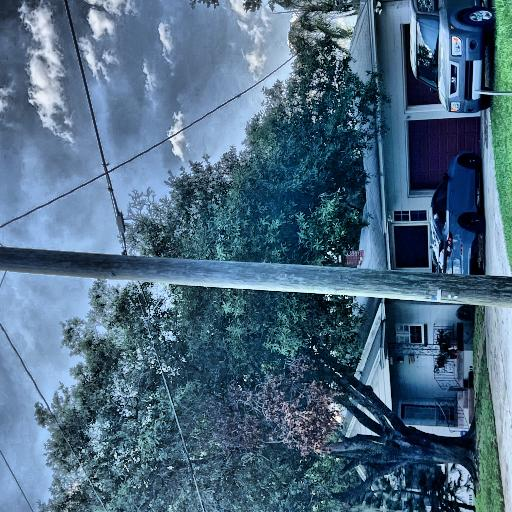pole: (69, 0, 154, 512)
